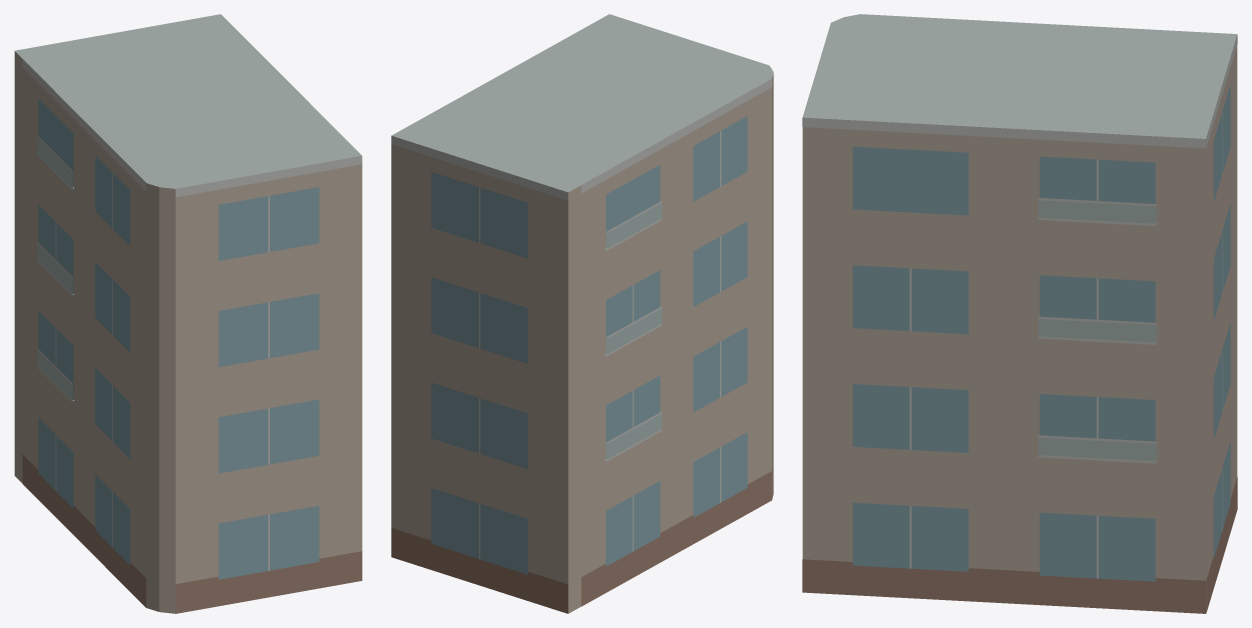
Rendered from survey-upis-33044110.glb.
3 views of the same model, side by side, from view 1: azimuth 30°, elevation 25°; view 2: azimuth 150°, elevation 25°; view 3: azimuth 270°, elevation 25° (orthographic). The views are drawn at different scales.
Visible parts, largest first — view 1: survey-upis-33044110.tmp; view 2: survey-upis-33044110.tmp; view 3: survey-upis-33044110.tmp.
Part boxes in pixels (x1=…): survey-upis-33044110.tmp: x1=14, y1=14, x2=362, y2=613; survey-upis-33044110.tmp: x1=391, y1=14, x2=773, y2=613; survey-upis-33044110.tmp: x1=802, y1=14, x2=1237, y2=613.
Bounding box in the file's own units: 6.95 × 12.3 × 10.22.
